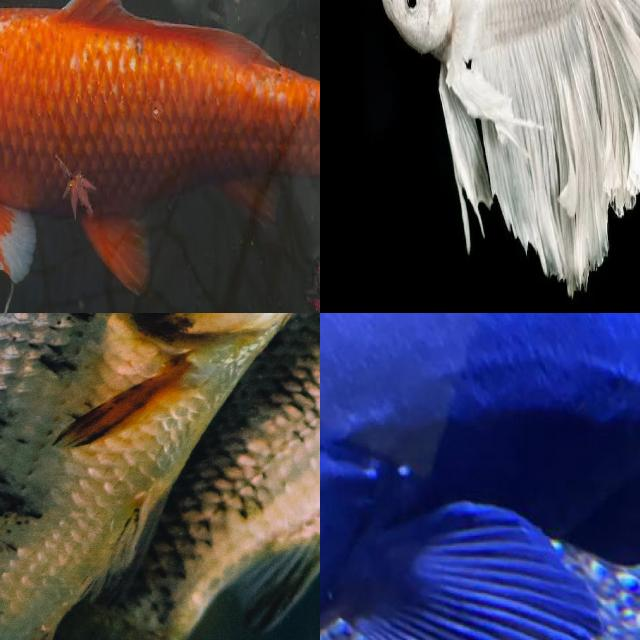fish: (320, 313, 640, 640), (0, 0, 320, 313), (320, 0, 640, 313), (0, 361, 124, 640)
